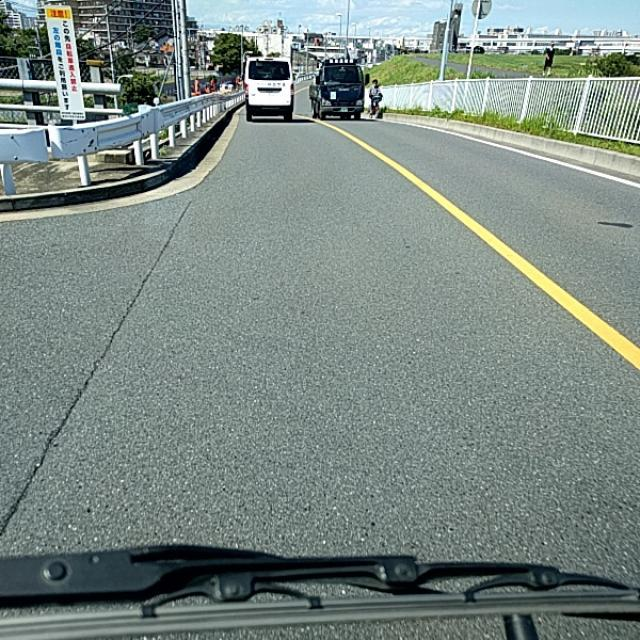pothole: (42, 402, 72, 478)
